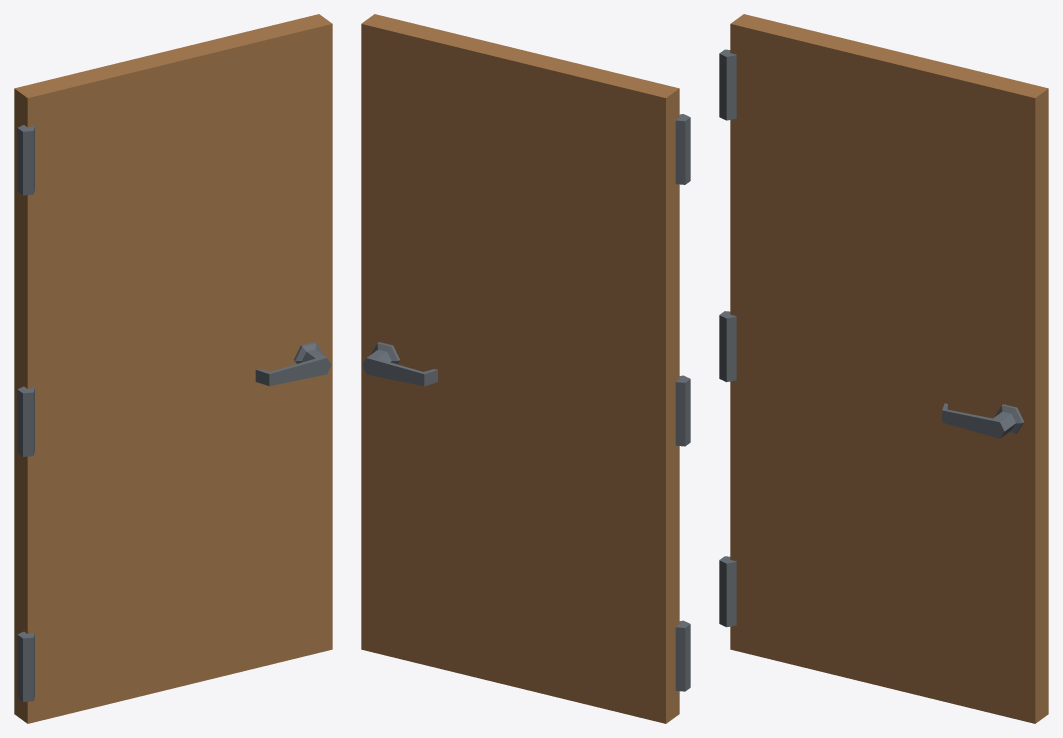
Rendered from Door_02.FBX.
The picture shows the model from 3 angles, left to right: view 1: azimuth 30°, elevation 25°; view 2: azimuth 150°, elevation 25°; view 3: azimuth 330°, elevation 25°; orthographic projection.
Visible parts, largest first — view 1: Door_02; view 2: Door_02; view 3: Door_02.
Part boxes in pixels (left/top/right/bottom): Door_02: left=14, top=14, right=332, bottom=723; Door_02: left=361, top=14, right=690, bottom=723; Door_02: left=719, top=14, right=1048, bottom=723.
Size of the model in its own units: 103 by 197 by 24.73.
